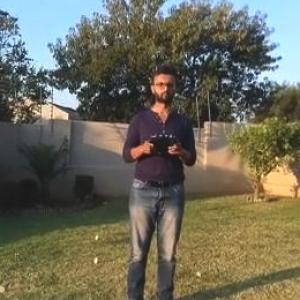follow: (115, 60, 202, 299)
